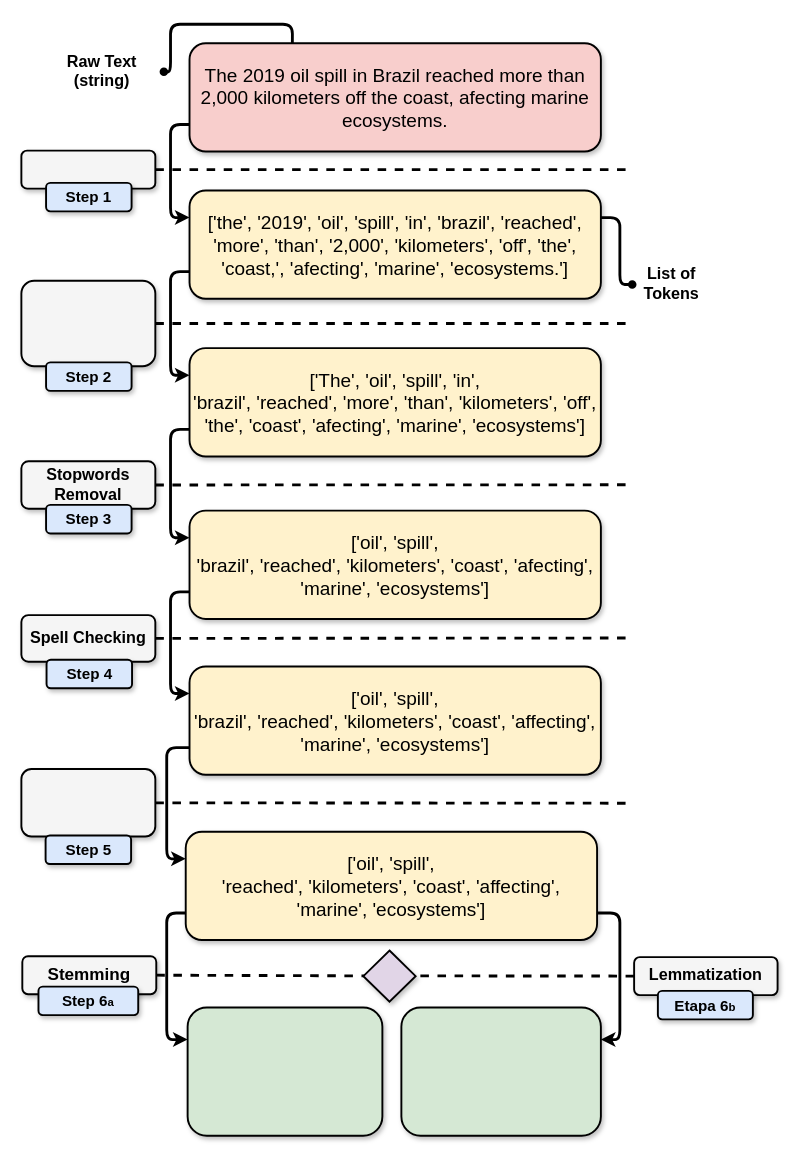
Image size: 800x1160. Some labels were removed from this diagram. Here are the shapes that lost their labels. From the top down, the centre of each, then its label:
(x=89, y=170): Tokenization
(x=89, y=324): Punctuation and Special Characters Removal
(x=89, y=804): Named Entity Recognition
(x=390, y=977): OR
(x=285, y=1072): ['oil', 'spill', 'reach', 'kilomet', 'coast', 'affect', 'marin', 'ecosystem']
(x=501, y=1072): ['oil', 'spill','reach', 'kilometer', 'coast', 'affect', 'marine', 'ecosystem']
